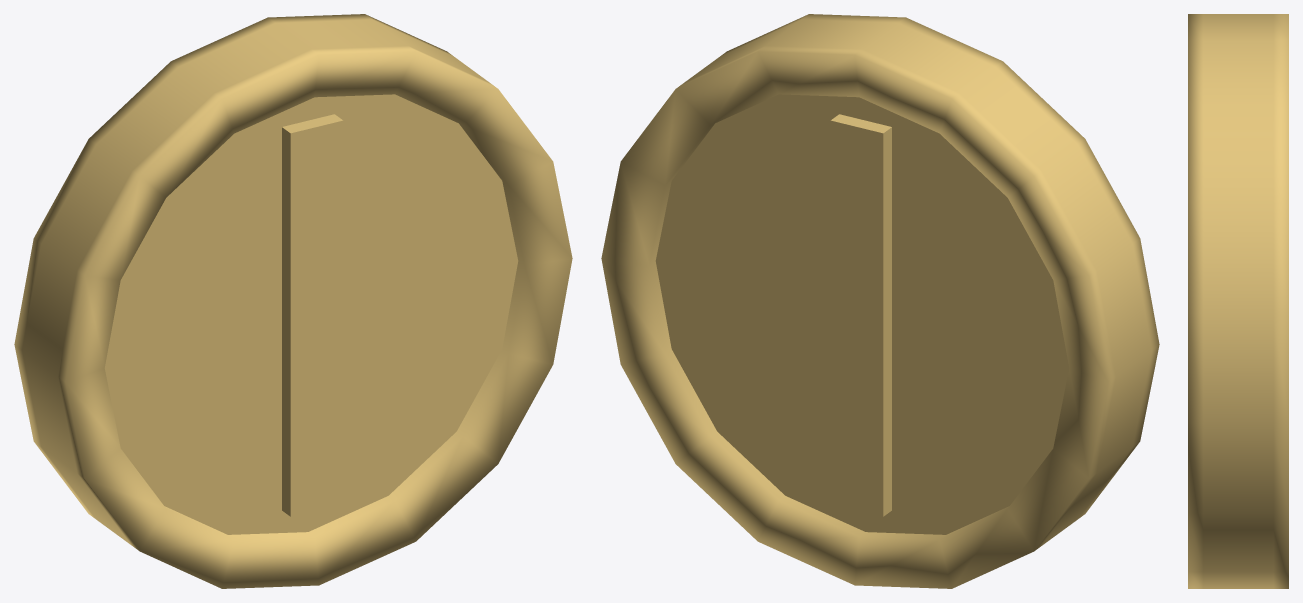
Rendered from coin.fbx.
3 views of the same model, side by side, from view 1: azimuth 30°, elevation 25°; view 2: azimuth 150°, elevation 25°; view 3: azimuth 270°, elevation 25° (orthographic).
Parts seen in each view (by area): view 1: coin; view 2: coin; view 3: coin.
Boxes of the visible parts, bbox=[...] form: coin: bbox=[14, 14, 572, 588]; coin: bbox=[601, 14, 1159, 588]; coin: bbox=[1188, 14, 1288, 588].
Bounding box in the file's own units: 58.07 × 58.07 × 10.17.
